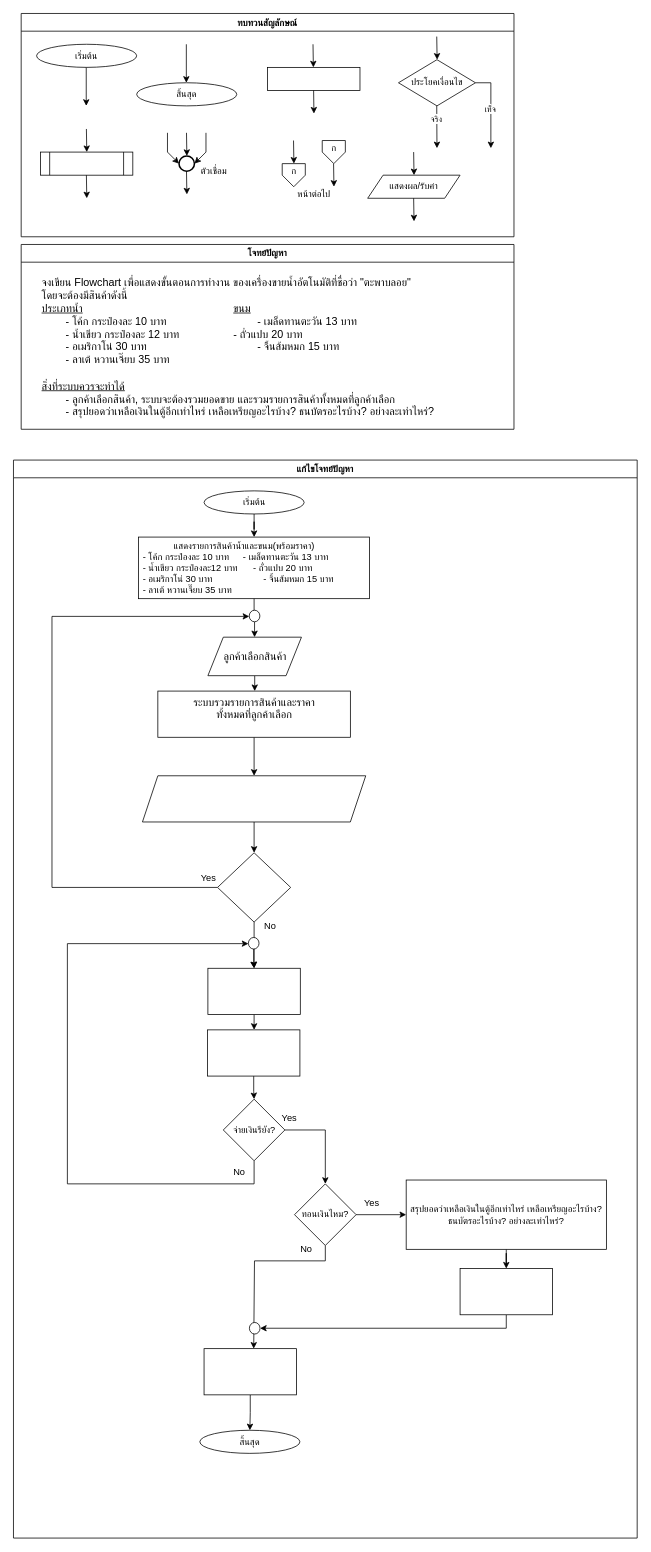
The diagram is 651 pixels wide and 1552 high, and some of its shapes have lost their labels. The shapes that lost their labels are listed below. From the top down, each one's centre as x and y in pixels, then its label:
the point at 313,78: กระบวนการ
the point at 86,163: ฟังก์ชัน/โมดูล
the point at 254,798: แสดง รายการสินค้าทั้งหมดที่ลูกค้าเลือก(พร้อมราคา)
the point at 254,887: ลูกค้าต้องการสินค้าเพิ่ม?
the point at 253,991: รอลูกค้าจ่ายเงิน
the point at 253,1052: ระบบจะต้องรวมยอดขาย
the point at 505,1291: ทอนเงินให้ลูกค้า
the point at 249,1371: จ่ายสินค้าให้กับลูกค้า
